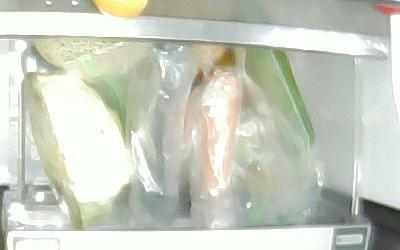cabbage: (22, 71, 130, 230)
carrot_vinyl: (200, 74, 241, 195)
melon: (31, 38, 150, 70)
zucchini_vinyl: (247, 49, 315, 155)
